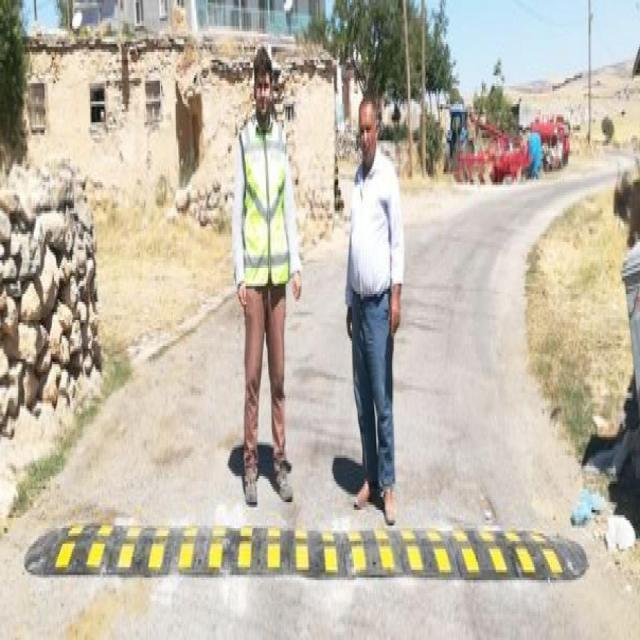Speed_Breaker: (24, 520, 590, 584), (20, 520, 587, 579)
